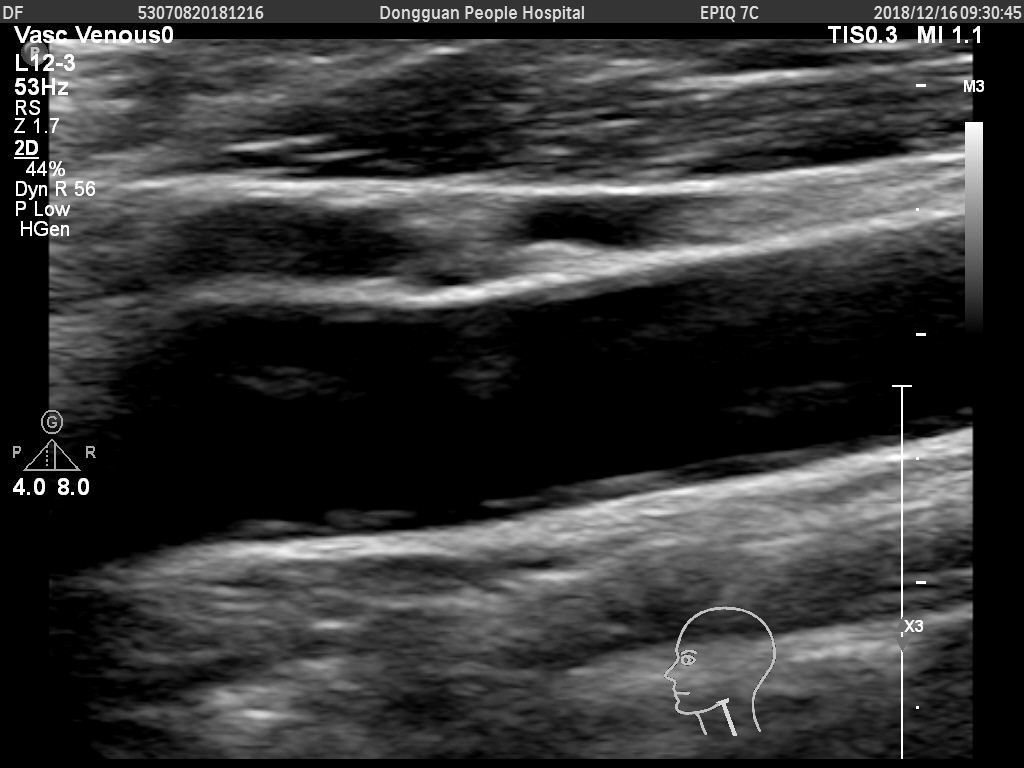sclerosis: (478, 460, 683, 514)
vessel: (416, 256, 774, 544)
